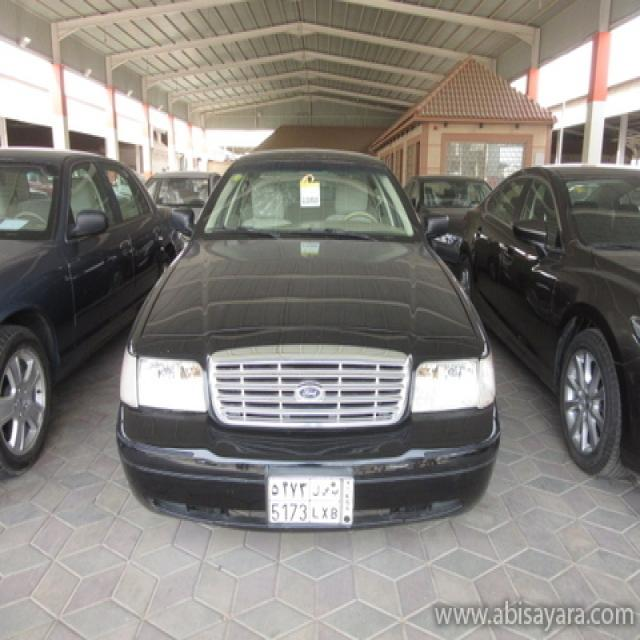license_plate: (267, 473, 356, 530)
